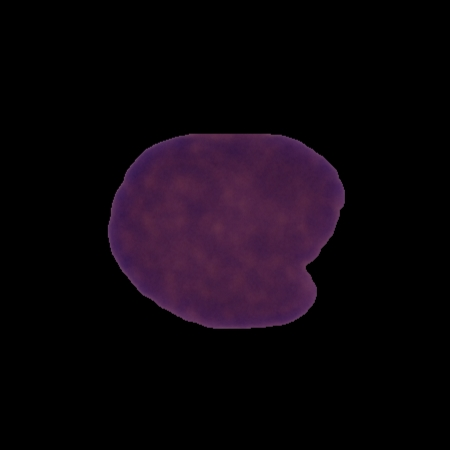HEM: (104, 129, 348, 331)
